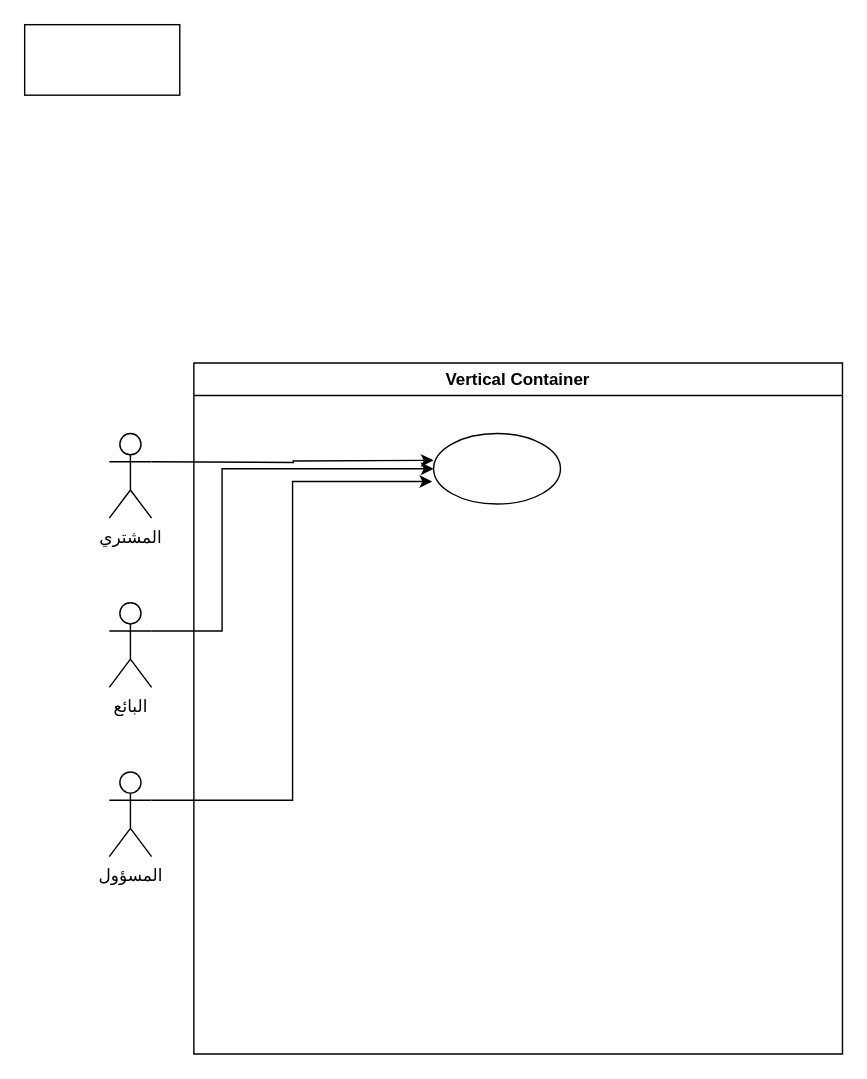
This 867x1079 diagram has some shape labels left out. Here are the shapes that lost their labels. From the top down, the box of each, then its label:
(23, 23, 180, 95): Object
(432, 432, 560, 504): تسجيل الدخول
